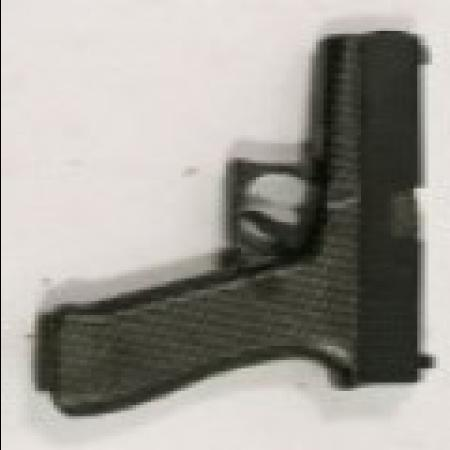Pistol: (45, 31, 443, 422)
